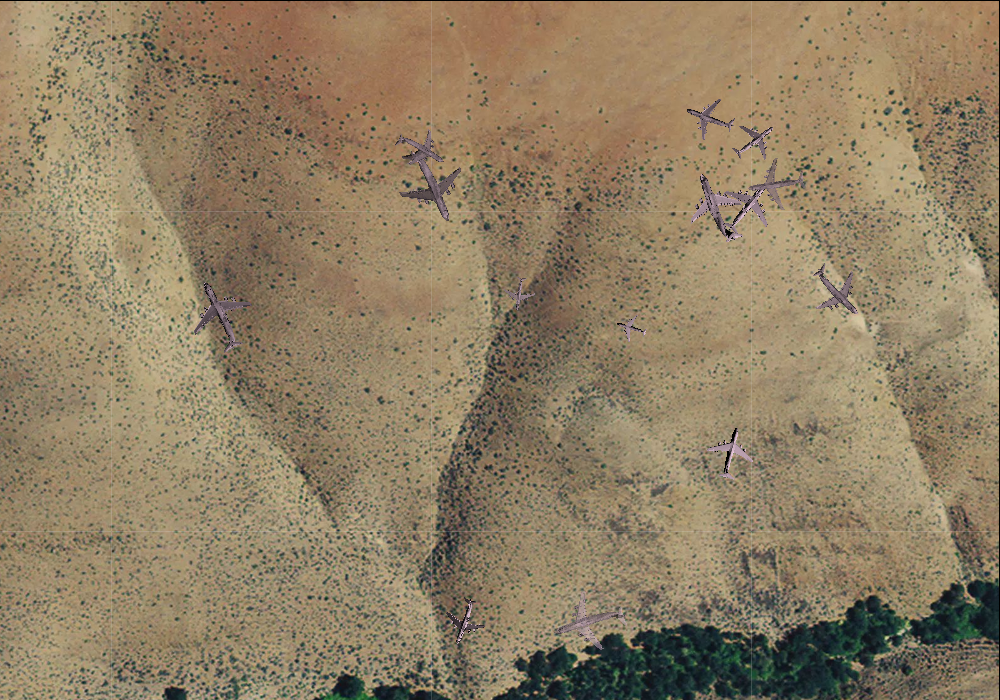plane: (379, 134, 479, 236), (171, 267, 267, 364), (544, 579, 635, 668), (674, 161, 761, 254), (795, 249, 879, 332), (707, 166, 788, 247), (385, 115, 454, 183), (678, 86, 742, 149), (722, 109, 786, 172), (700, 421, 762, 485), (744, 153, 809, 214), (434, 591, 493, 651), (612, 309, 650, 347), (501, 274, 537, 312)
